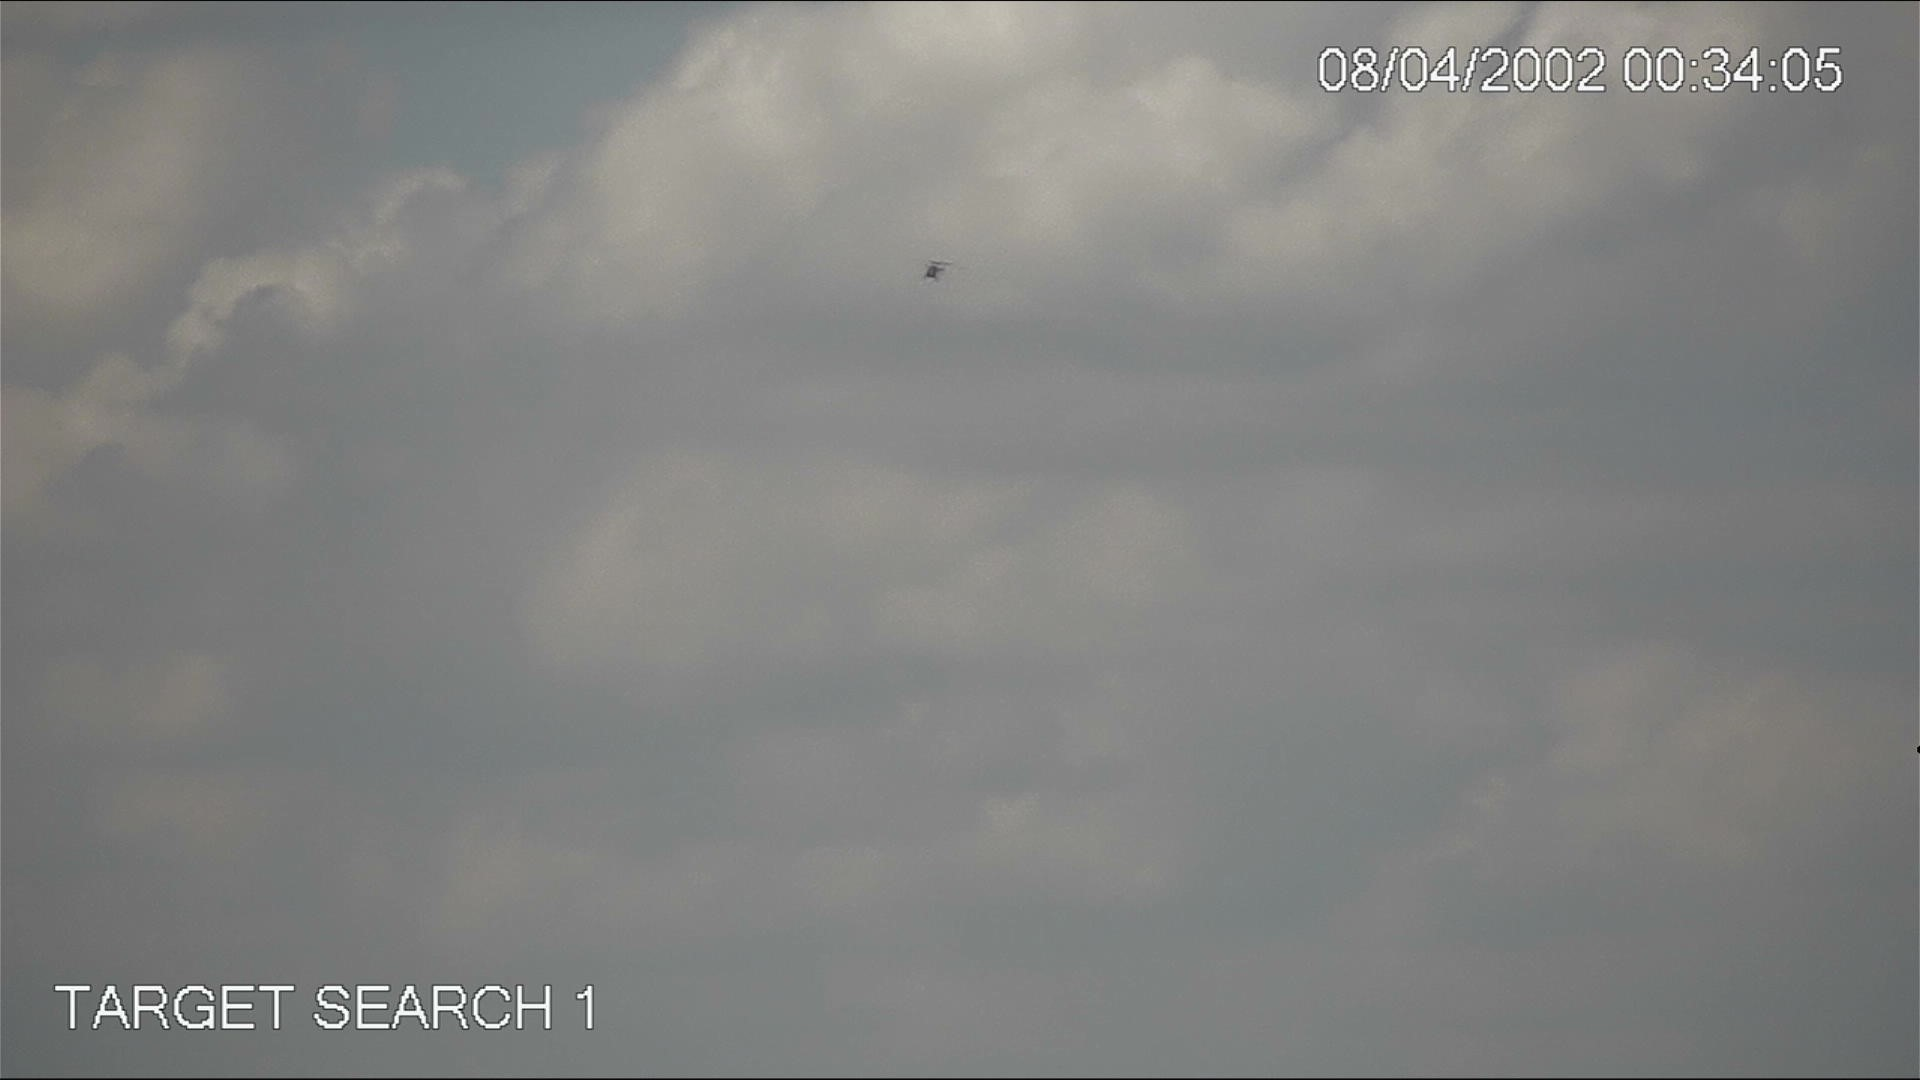SU_30: (914, 253, 953, 287)
